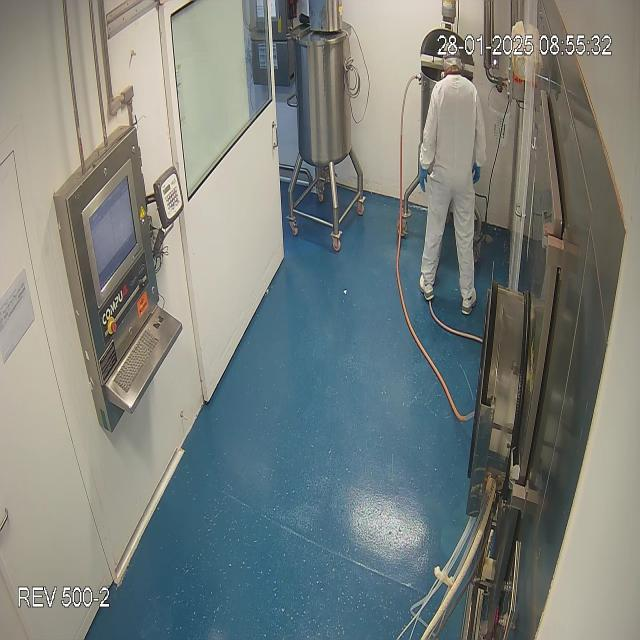bota: (418, 270, 479, 317)
pessoa: (418, 42, 488, 311)
touca: (438, 42, 463, 75)
